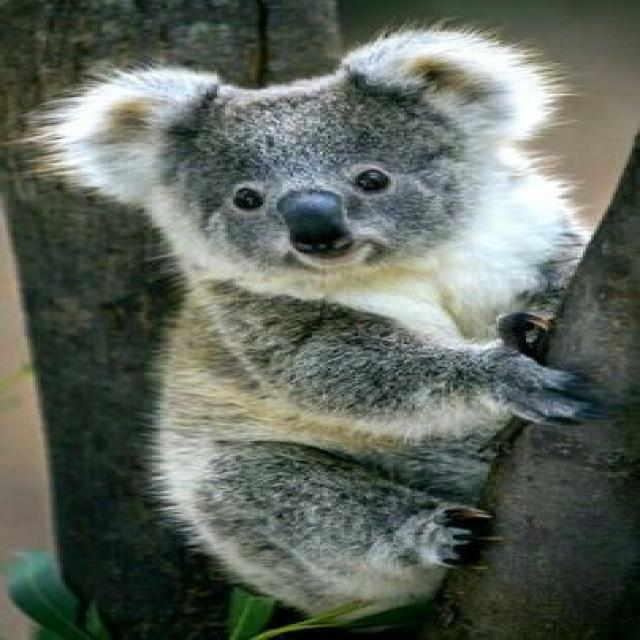Herbivorous: (30, 27, 594, 640)
